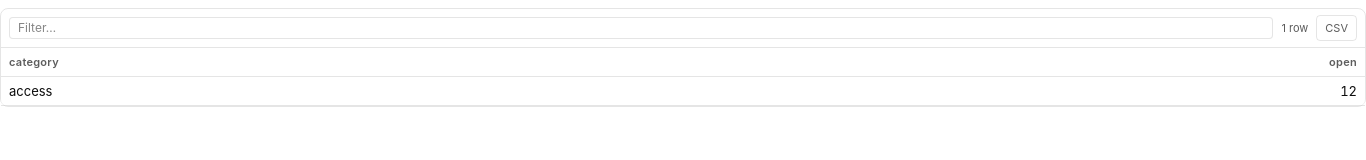
Test: TableView › says so when nothing matches, rather than showing an empty grid
This screenshot has width=1366, height=160.
Type "zzz" into the search field named "Filter rows". click: (641, 28)
box: [9,17,1273,39]
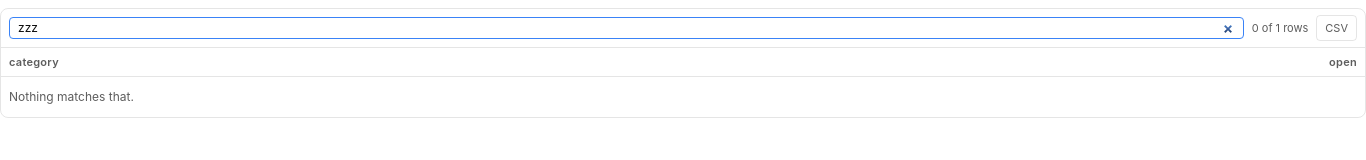
Expected: the text "Nothing matches that." is shown, [9,89,134,104]
